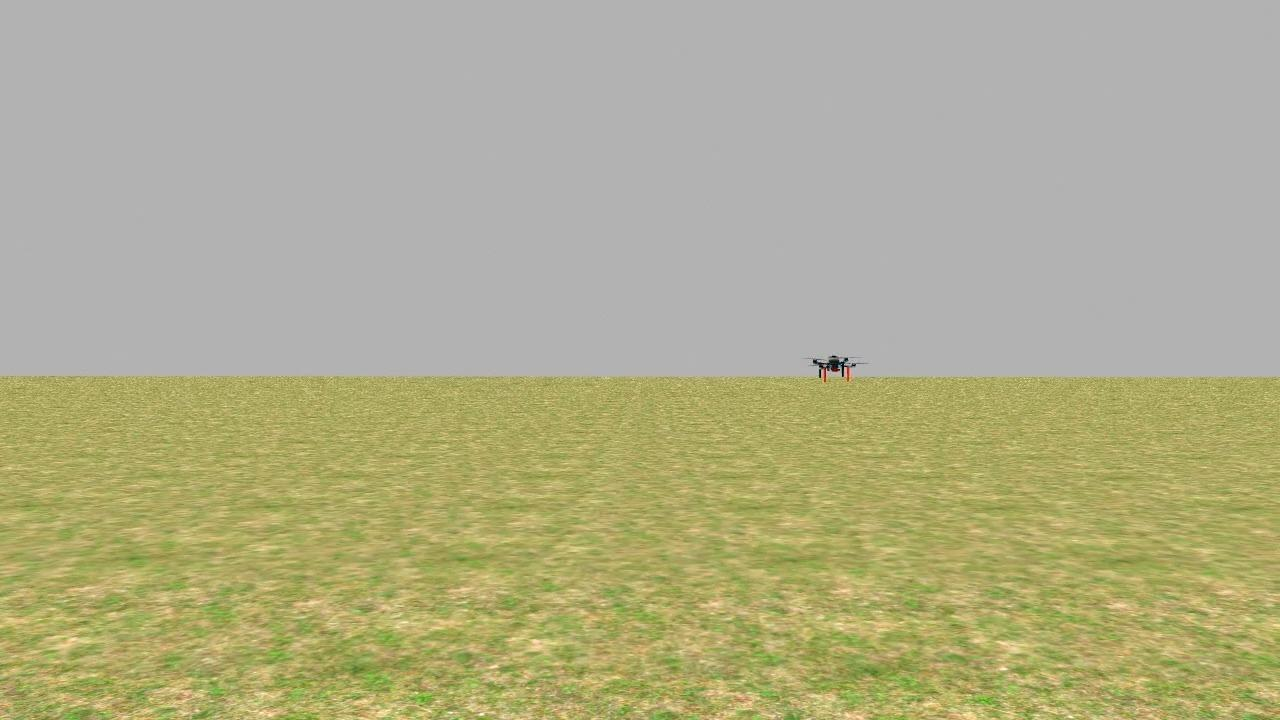UAV: (792, 338, 874, 391)
